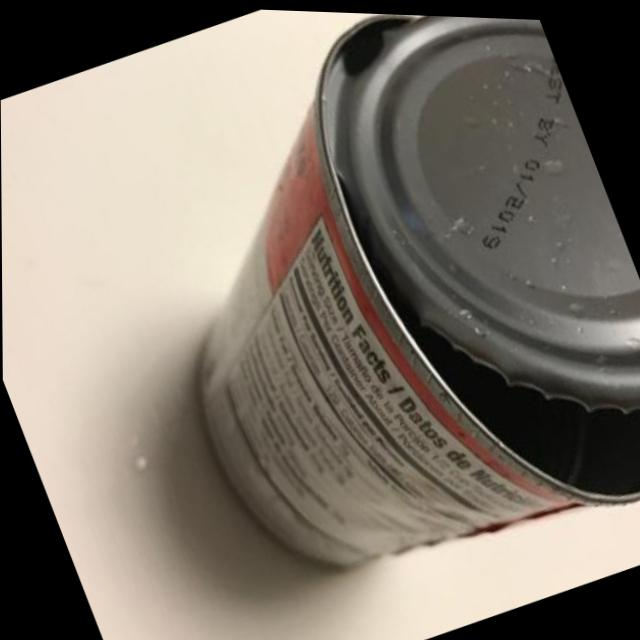metal: (74, 3, 640, 640)
